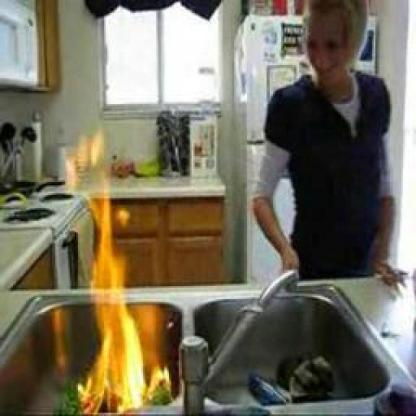fire: (65, 123, 171, 412)
